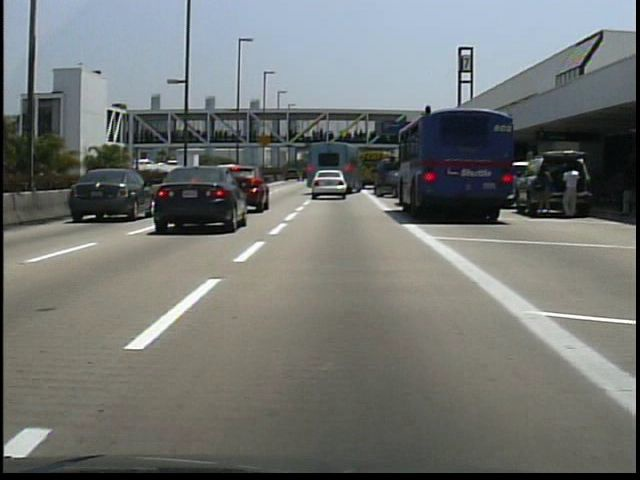person: (556, 161, 581, 223), (529, 161, 554, 222)
